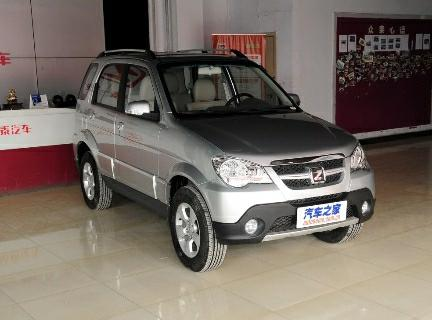car: (63, 39, 382, 273)
